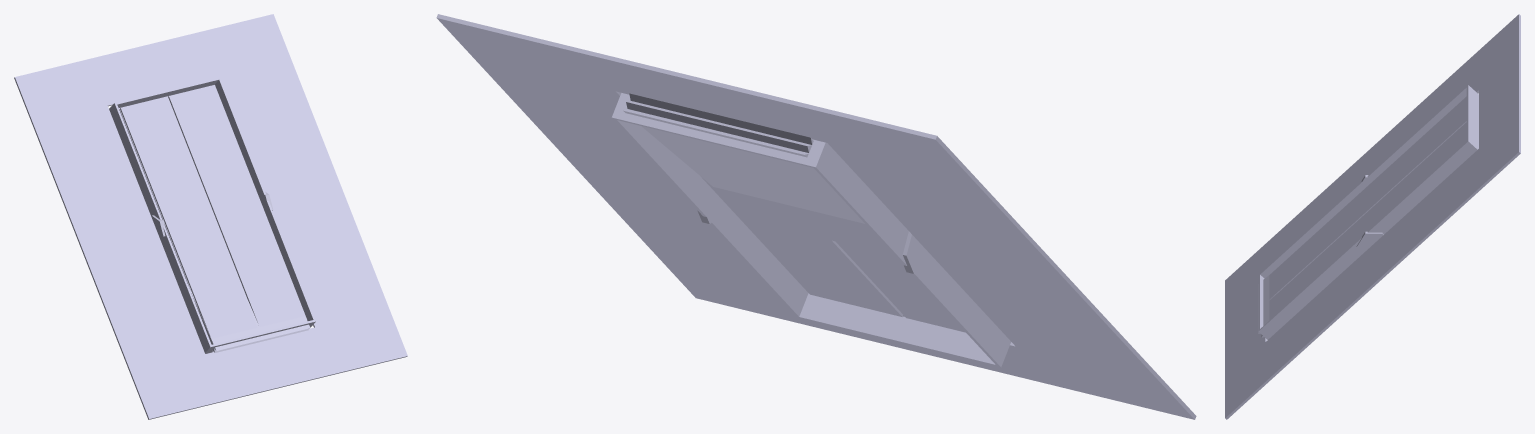
Rendered from RotateDock_045deg.glb.
The picture shows the model from 3 angles, left to right: view 1: azimuth 30°, elevation 25°; view 2: azimuth 150°, elevation 25°; view 3: azimuth 270°, elevation 25°; orthographic projection. The views are drawn at different scales.
Visible parts, largest first — view 1: copy_Body021, copy_LinkGroup004, copy_Body, copy_Body023; view 2: copy_Body021, copy_Body, copy_LinkGroup003, copy_Body022, copy_Body002; view 3: copy_Body021, copy_LinkGroup004, copy_Body, copy_Body023, copy_Body001.
Part boxes in pixels (x1,y1,x2,y2): copy_Body021: [14, 14, 407, 419]; copy_LinkGroup004: [119, 85, 306, 338]; copy_Body: [109, 77, 316, 353]; copy_Body023: [188, 282, 310, 352]; copy_Body021: [436, 14, 1196, 419]; copy_Body: [612, 93, 1010, 367]; copy_LinkGroup003: [701, 177, 965, 332]; copy_Body022: [623, 93, 864, 223]; copy_Body002: [902, 231, 930, 273]; copy_Body021: [1225, 14, 1520, 419]; copy_LinkGroup004: [1269, 96, 1466, 320]; copy_Body: [1258, 85, 1478, 339]; copy_Body023: [1258, 275, 1277, 337]; copy_Body001: [1356, 231, 1383, 254].
Size of the model in its own units: 1.68 by 1.52 by 1.52.
